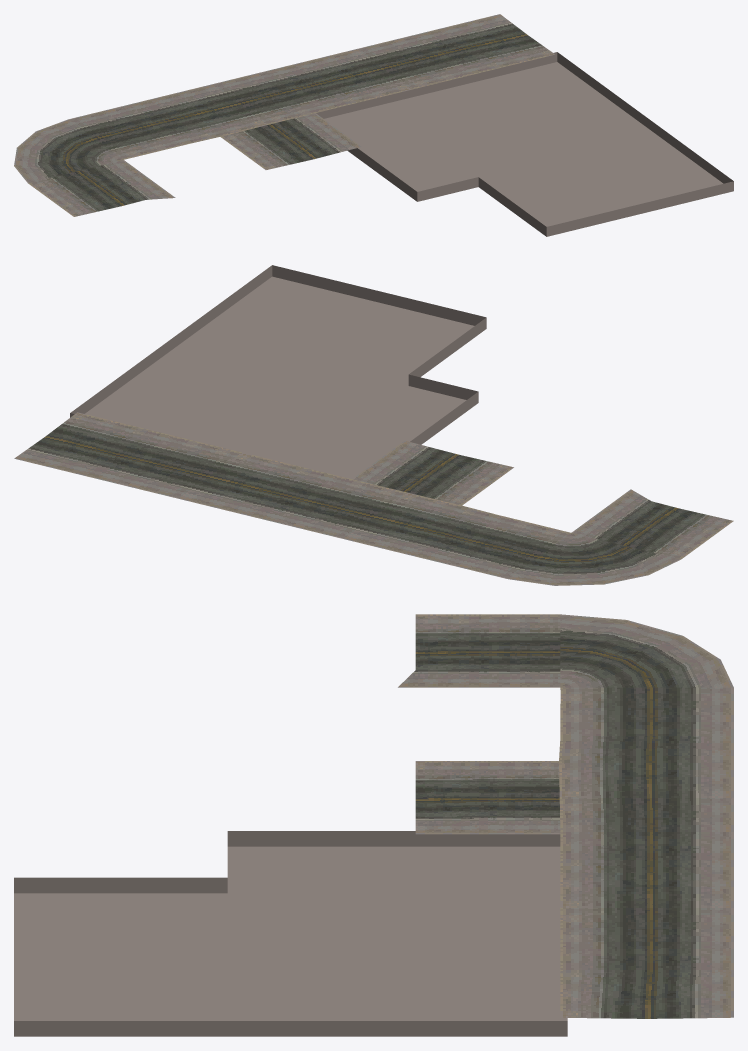
The model's file is lodcunte_roads85.obj.
The picture shows the model from 3 angles, top to bottom: view 1: azimuth 30°, elevation 25°; view 2: azimuth 150°, elevation 25°; view 3: azimuth 270°, elevation 25°; orthographic projection. The views are drawn at different scales.
Visible parts, largest first — view 1: LODcunte_roads85; view 2: LODcunte_roads85; view 3: LODcunte_roads85.
Part boxes in pixels (<box>): LODcunte_roads85: <box>14,14,733,236</box>; LODcunte_roads85: <box>14,265,733,585</box>; LODcunte_roads85: <box>14,614,733,1036</box>.
Bounding box in the file's own units: 111 × 2 × 82.97.
Materials: 1 (1 with a texture image).
